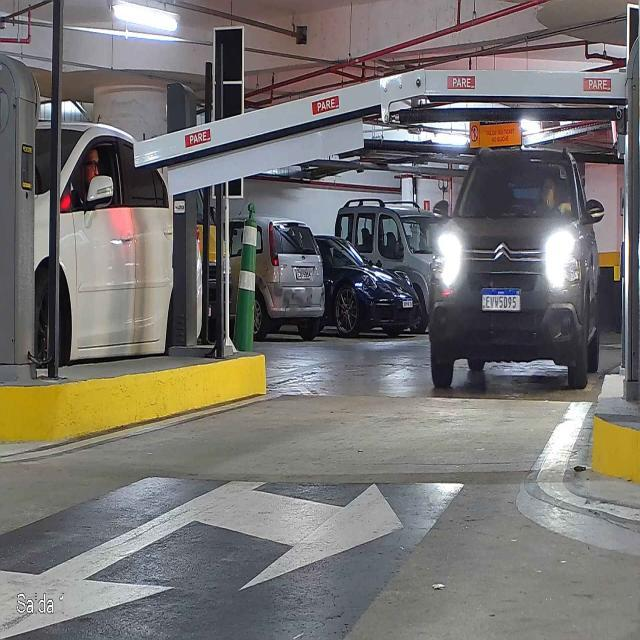mercosul_plate: (480, 287, 522, 312)
